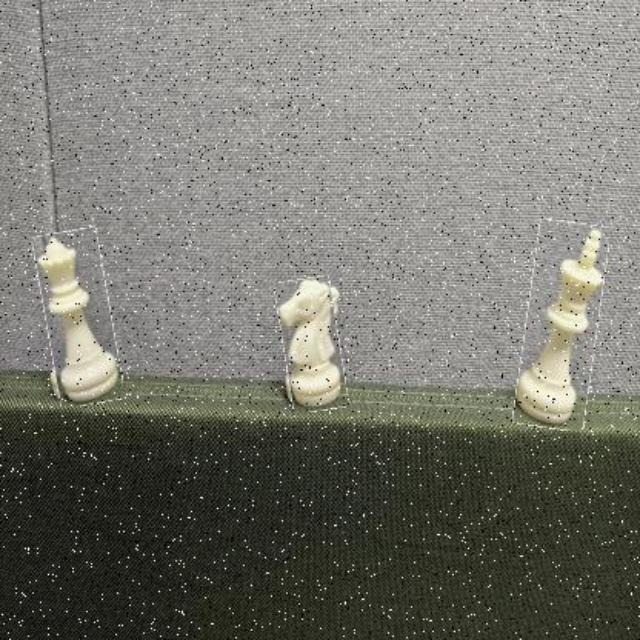white-king: (519, 221, 605, 431)
white-knight: (279, 277, 345, 412)
white-queen: (40, 229, 118, 407)
